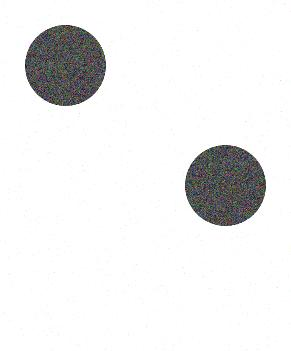E: (17, 19, 273, 335)
